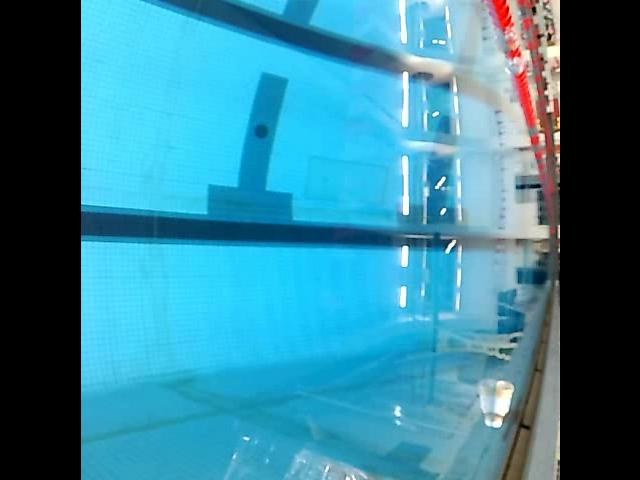Bottle: (249, 442, 400, 480), (483, 375, 518, 435)
